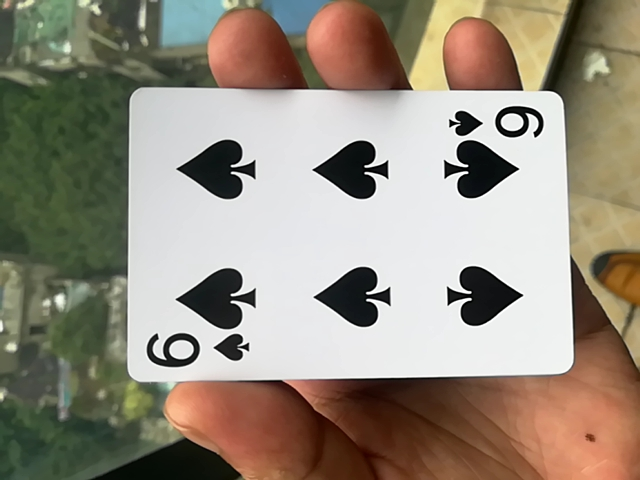ht 6: (119, 91, 570, 391)
